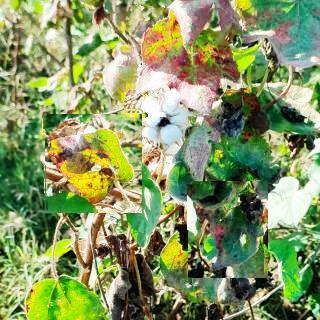blight: (127, 8, 243, 118), (43, 114, 142, 213), (188, 181, 268, 278)
